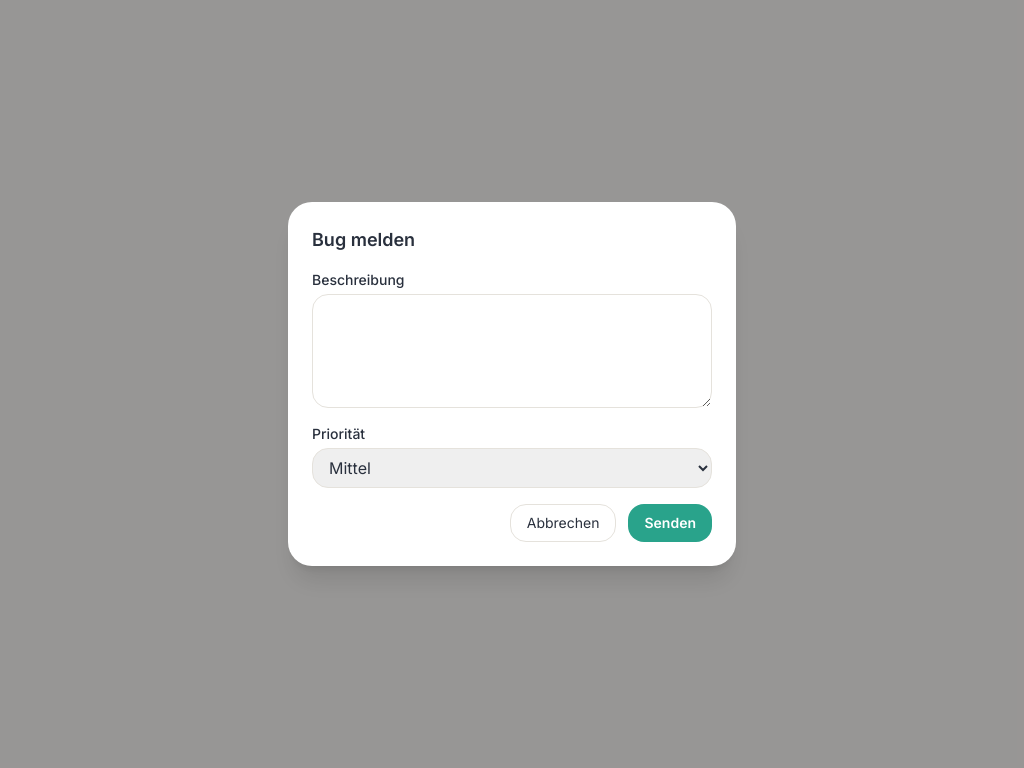
Scenario: BugReportModal › blocks sending with an empty description
Click the button "Senden" at (670, 523), box [628,504,712,542]
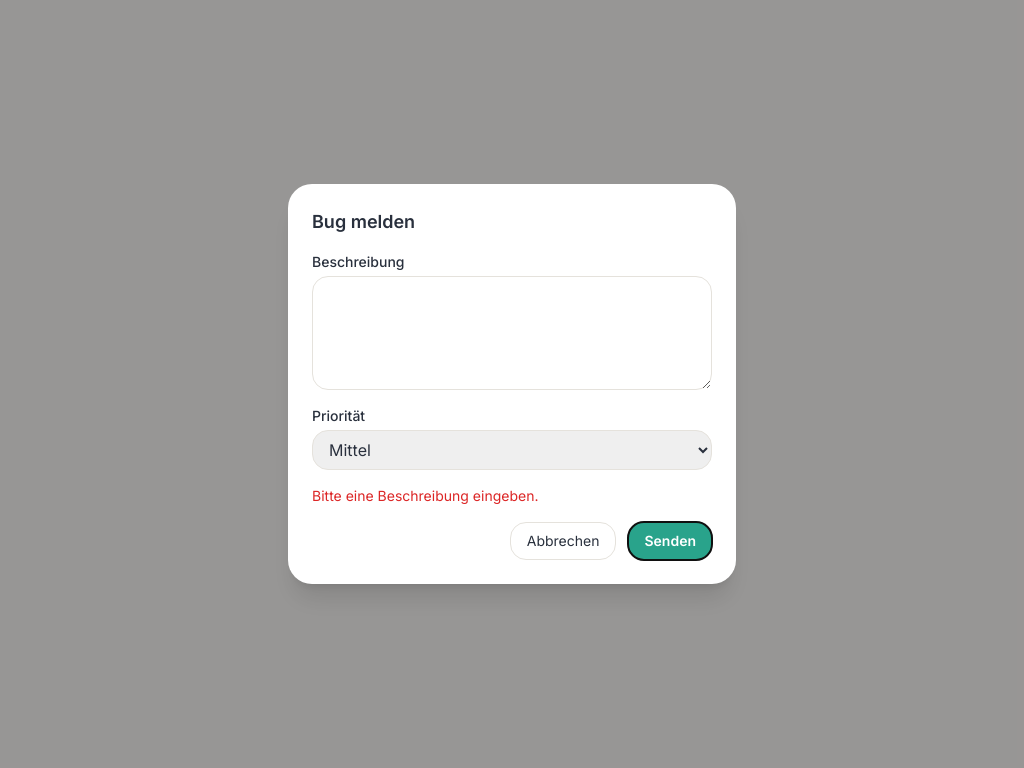
Expected: the text "Bitte eine Beschreibung eingeben." is shown, [312,487,538,504]
